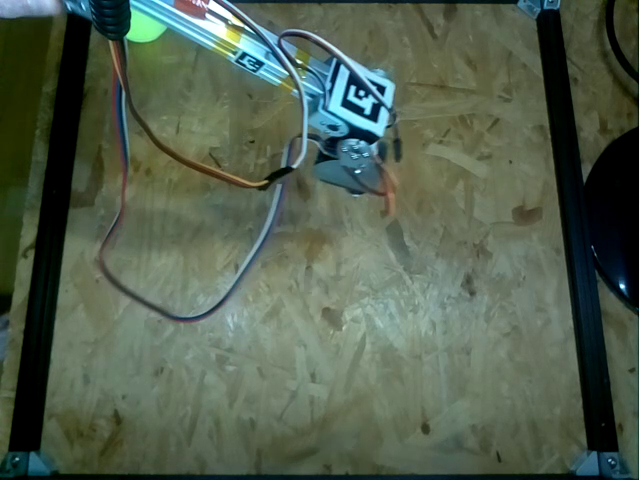tennis_ball: (129, 8, 164, 43)
